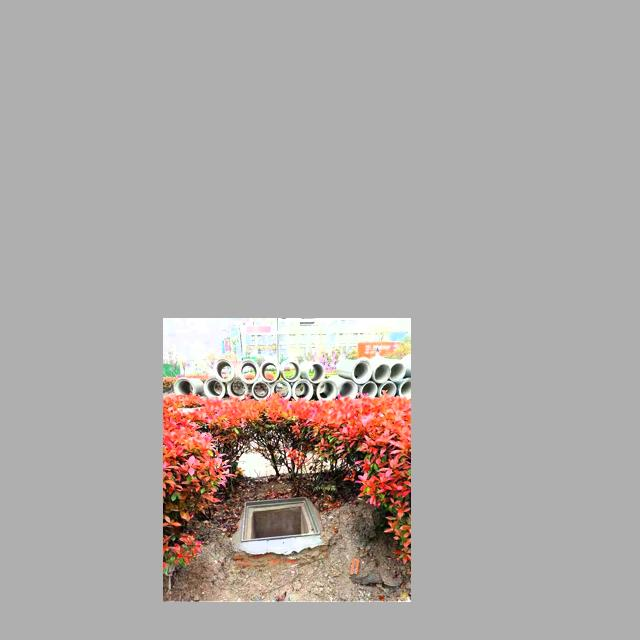lose: (240, 495, 321, 543)
